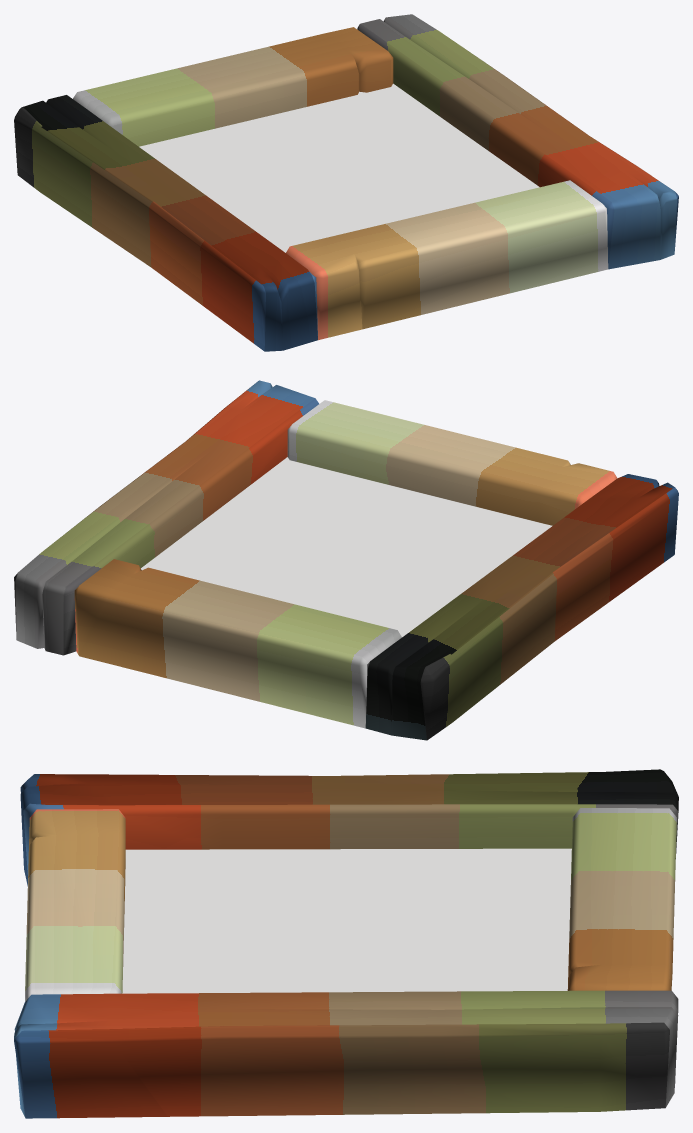
The model's file is P_AP24WallPhotos_01.glb.
3 views of the same model, one above another, from view 1: azimuth 30°, elevation 25°; view 2: azimuth 150°, elevation 25°; view 3: azimuth 270°, elevation 25° (orthographic). The views are drawn at different scales.
Parts seen in each view (by area): view 1: P_AP24WallPhotos_01; view 2: P_AP24WallPhotos_01; view 3: P_AP24WallPhotos_01.
Boxes of the visible parts, box(x1,y1,x2,y2) form: P_AP24WallPhotos_01: box(14, 14, 678, 351); P_AP24WallPhotos_01: box(14, 380, 678, 740); P_AP24WallPhotos_01: box(14, 769, 678, 1118).
Size of the model in its own units: 0.4168 by 0.0654 by 0.4395.
Materials: 1 (1 with a texture image).
